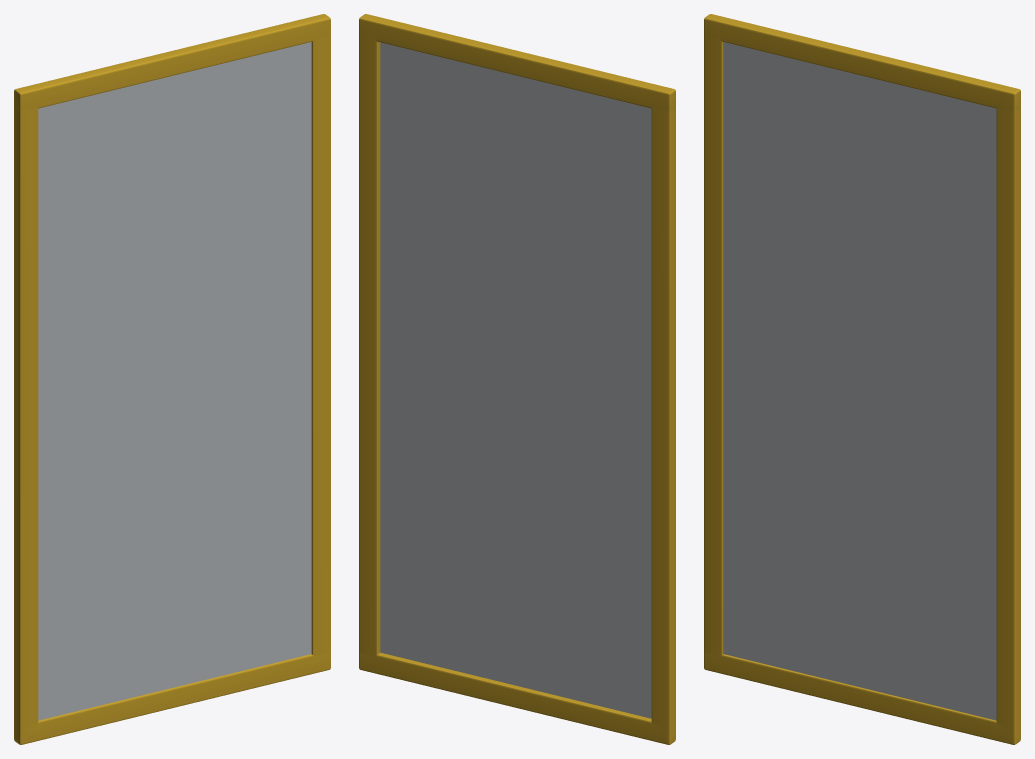
Rendered from prop_mirror_wall.glb.
3 renders of one model, left to right at view 1: azimuth 30°, elevation 25°; view 2: azimuth 150°, elevation 25°; view 3: azimuth 330°, elevation 25°, orthographic.
Parts seen in each view (by area): view 1: Mirror; view 2: Mirror; view 3: Mirror.
Part boxes in pixels (x1,y1,x2,y2): Mirror: (14,14,330,744); Mirror: (359,14,675,744); Mirror: (704,14,1020,744).
Size of the model in its own units: 0.65 by 1.3 by 0.025.
